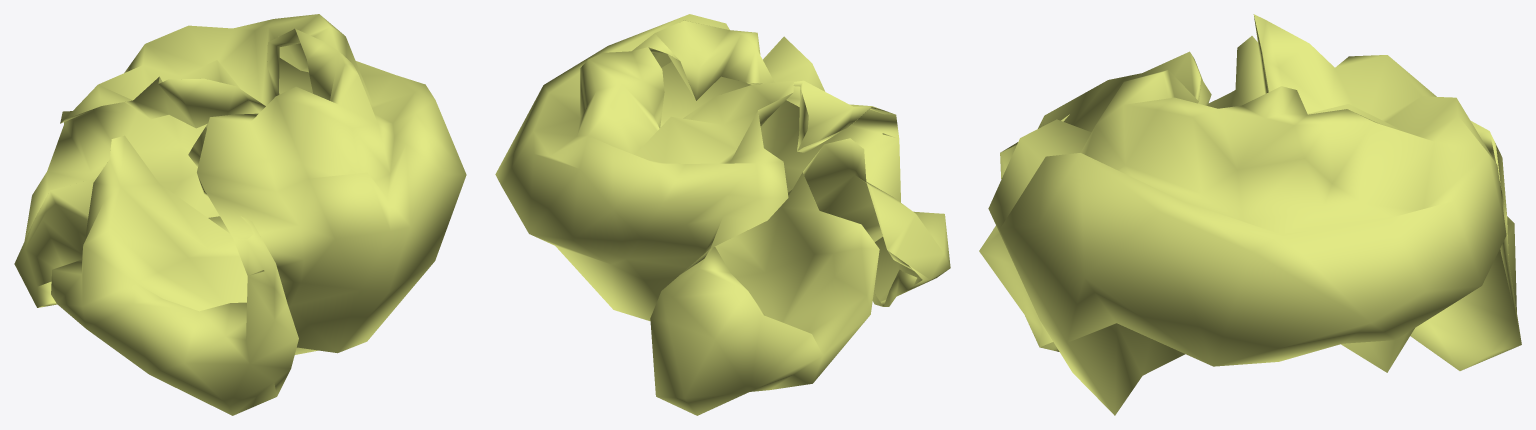
File: 포스트잇종이구긴거.fbx
3 renders of one model, left to right at view 1: azimuth 30°, elevation 25°; view 2: azimuth 150°, elevation 25°; view 3: azimuth 270°, elevation 25°, orthographic. The views are drawn at different scales.
Parts seen in each view (by area): view 1: crumpled_paper_ball_2; view 2: crumpled_paper_ball_2; view 3: crumpled_paper_ball_2.
Part boxes in pixels (box(x1,y1,x2,y2)): crumpled_paper_ball_2: box(14, 14, 466, 415); crumpled_paper_ball_2: box(495, 14, 950, 415); crumpled_paper_ball_2: box(979, 14, 1521, 415).
Bounding box in the file's own units: 557 × 402 × 553.
